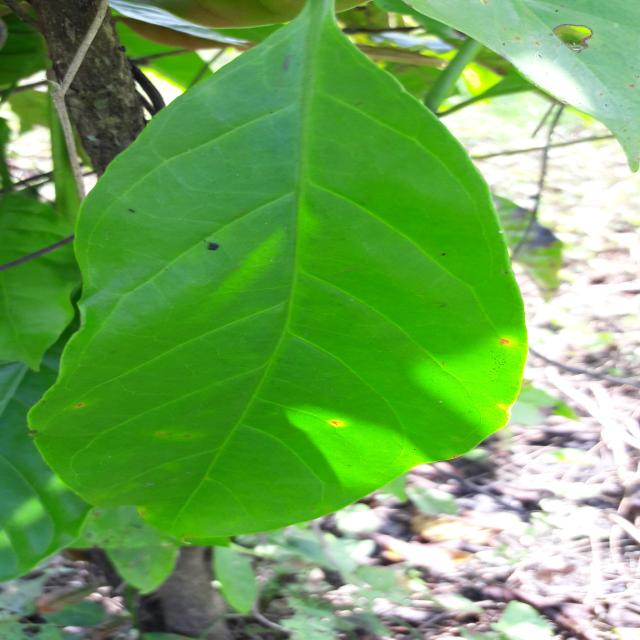Sanas: (24, 0, 531, 549)
